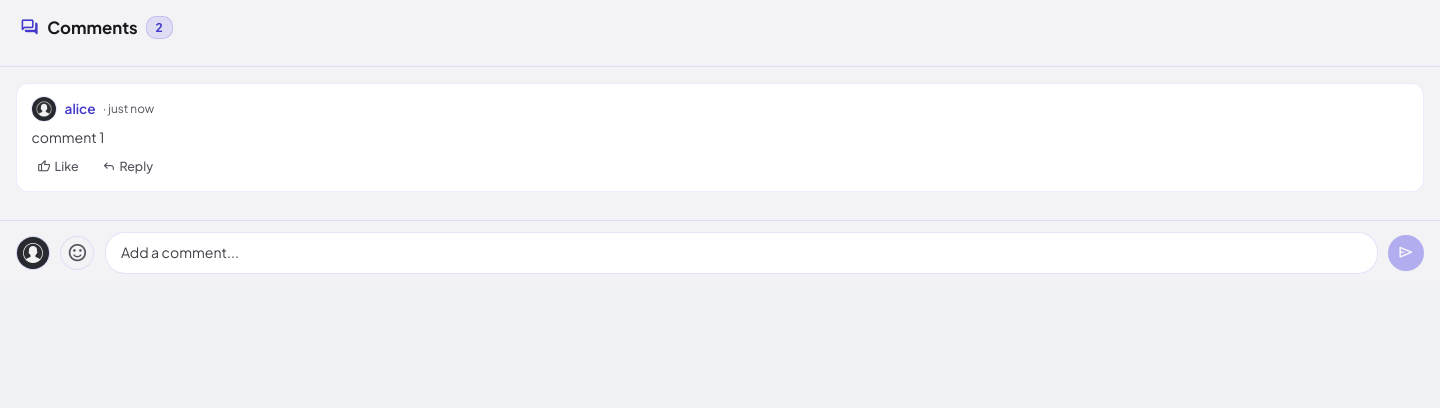
Test: PostCommentsPanel › replying sends the parent comment id and the @mention and shows the reply
Expected: the text "comment 1" is shown, left=31, top=128, right=104, bottom=146
Click the button "Reply": (127, 167) left=96, top=155, right=159, bottom=178
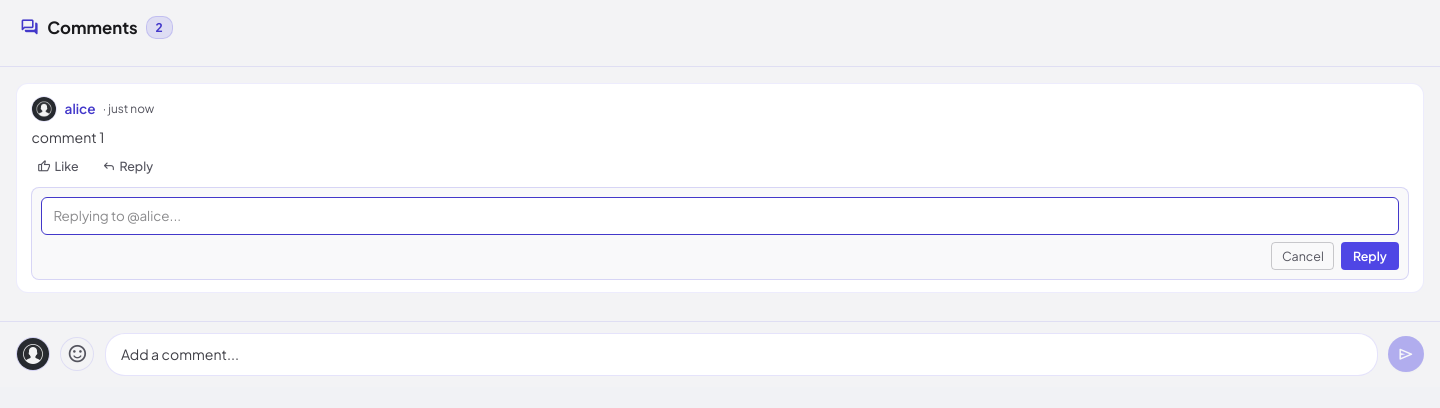
In the field with placeholder "Replying to @alice...": (720, 216) left=41, top=197, right=1399, bottom=235, type "thanks!"
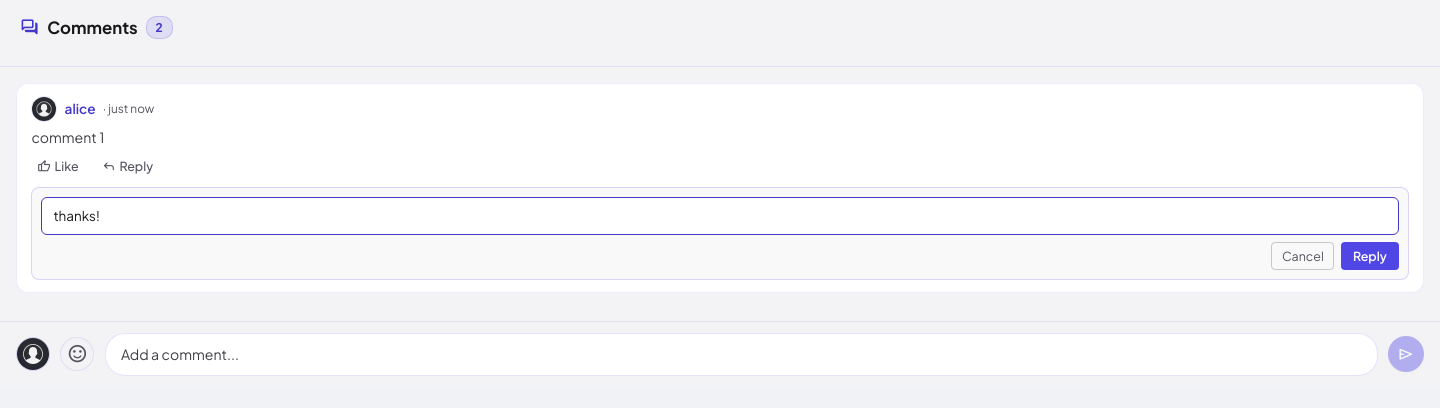
Click the 2nd button "Reply": (1370, 256) left=1341, top=242, right=1399, bottom=270
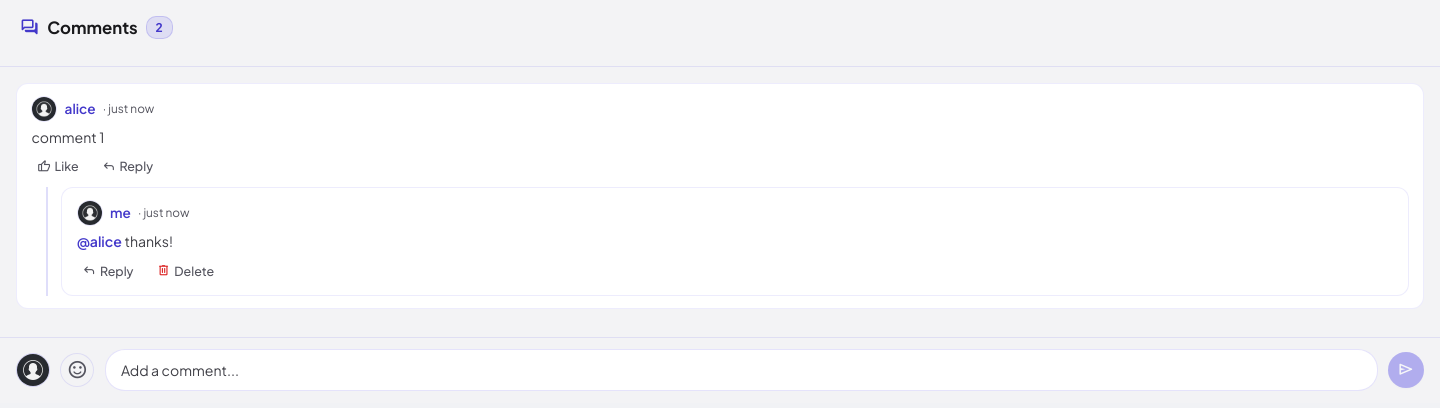
Result: the text "thanks!" is shown at left=124, top=232, right=173, bottom=250
